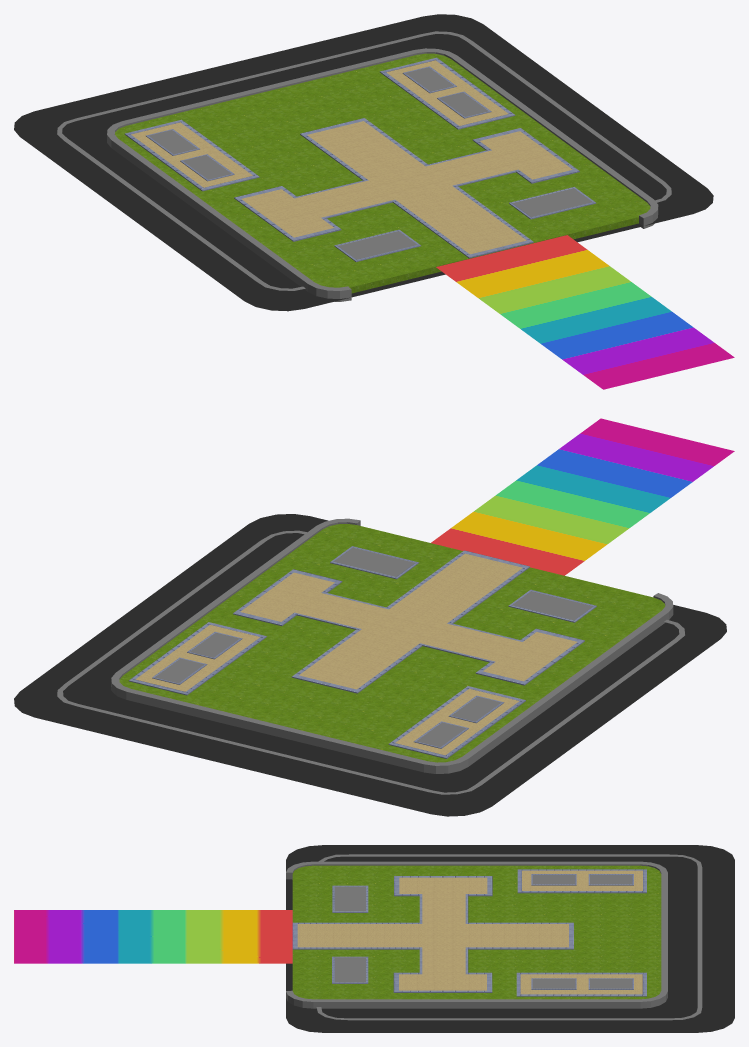
3 views of the same model, one above another, from view 1: azimuth 30°, elevation 25°; view 2: azimuth 150°, elevation 25°; view 3: azimuth 270°, elevation 25° (orthographic). The views are drawn at different scales.
Visible parts, largest first — view 1: Plane_009, Plane_5, Plane003, caihong; view 2: Plane_009, Plane_5, Plane003, caihong; view 3: Plane_009, Plane_5, Plane003, caihong.
Part boxes in pixels (x1,y1,x2,y2): Plane_009: [107, 48, 658, 301]; Plane_5: [14, 14, 713, 311]; Plane003: [124, 57, 596, 261]; caihong: [436, 235, 734, 389]; Plane_009: [111, 518, 673, 773]; Plane_5: [14, 514, 726, 816]; Plane003: [128, 546, 596, 758]; caihong: [431, 418, 734, 575]; Plane_009: [286, 861, 667, 1008]; Plane_5: [286, 845, 734, 1032]; Plane003: [292, 869, 646, 996]; caihong: [14, 910, 292, 963].
Bounding box in the file's own units: 6088 × 139 × 9872.
